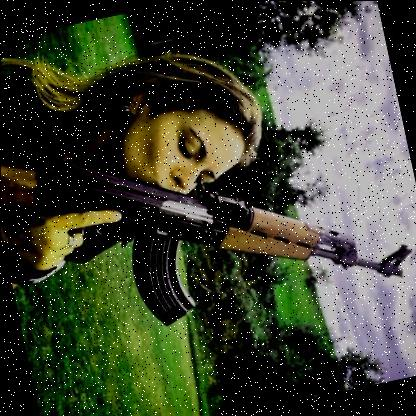rifle: (0, 82, 416, 360)
